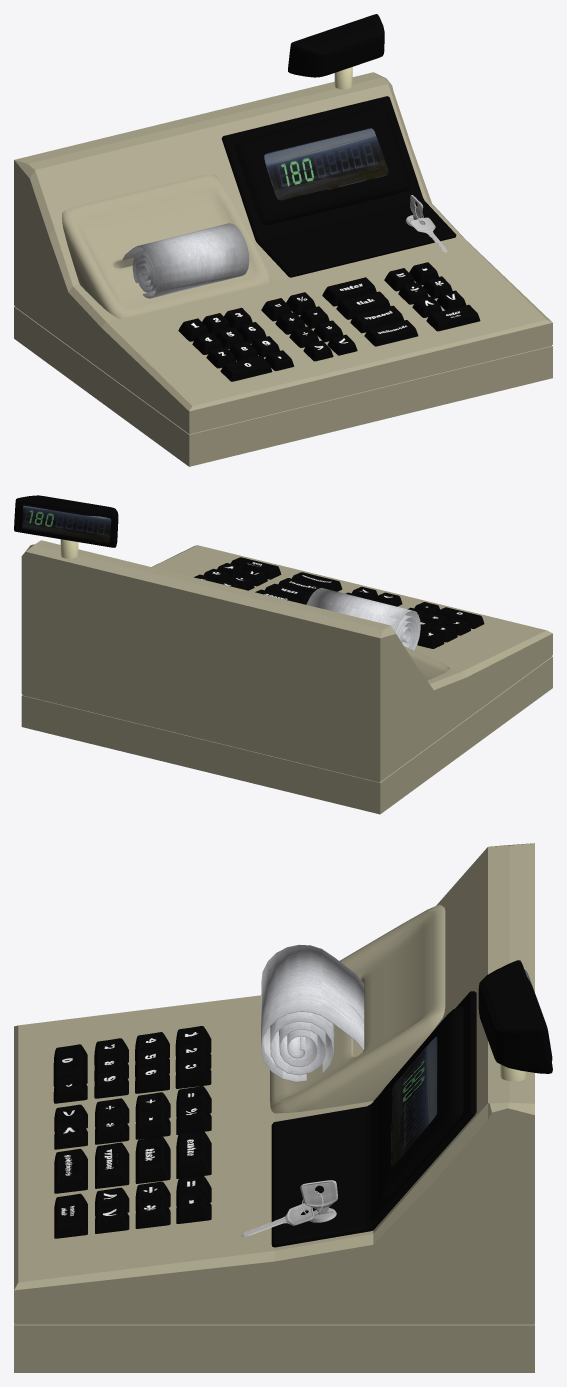
The model's file is cash_register.glb.
3 renders of one model, top to bottom at view 1: azimuth 30°, elevation 25°; view 2: azimuth 150°, elevation 25°; view 3: azimuth 270°, elevation 25°, orthographic. The views are drawn at different scales.
Parts seen in each view (by area): view 1: Cube, Cube.002, Cube.004, object 2, object 13, object 14, Cube.003, object 16, object 15, object 17, object 18; view 2: Cube, object 13, Cube.005, object 14, Cube.003, object 16, object 17, Cube.002, object 15, object 18; view 3: Cube, Cube.002, object 2, object 13, Cube.004, object 14, object 16, object 15, Cube.003, object 17, object 18, object 10 (+1 smaller).
Boxes of the visible parts, x1,y1,x2,y2 form: Cube: (14,72,552,466); Cube.002: (62,174,271,318); Cube.004: (235,107,410,224); object 2: (221,96,456,277); object 13: (122,223,249,298); object 14: (178,307,294,381); Cube.003: (288,14,384,77); object 16: (322,277,418,346); object 15: (261,292,357,361); object 17: (384,262,466,317); object 18: (426,304,480,331); Cube: (21,540,552,814); object 13: (306,588,420,650); Cube.005: (20,504,111,543); object 14: (407,602,484,648); Cube.003: (14,495,118,547); object 16: (255,572,342,604); object 17: (194,563,267,590); Cube.002: (404,646,449,680); object 15: (345,586,402,606); object 18: (230,557,281,579); Cube: (14,843,534,1372); Cube.002: (270,904,445,1113); object 2: (271,991,476,1247); object 13: (261,944,364,1082); Cube.004: (378,1006,463,1204); object 14: (53,1026,211,1103); object 16: (54,1130,211,1193); object 15: (54,1086,211,1149); Cube.003: (478,960,552,1073); object 17: (95,1175,211,1233); object 18: (54,1193,87,1238); object 10: (300,1180,337,1214).
Size of the model in its own units: 8.47 by 5.15 by 7.25.
Materials: 9 (5 with a texture image).
